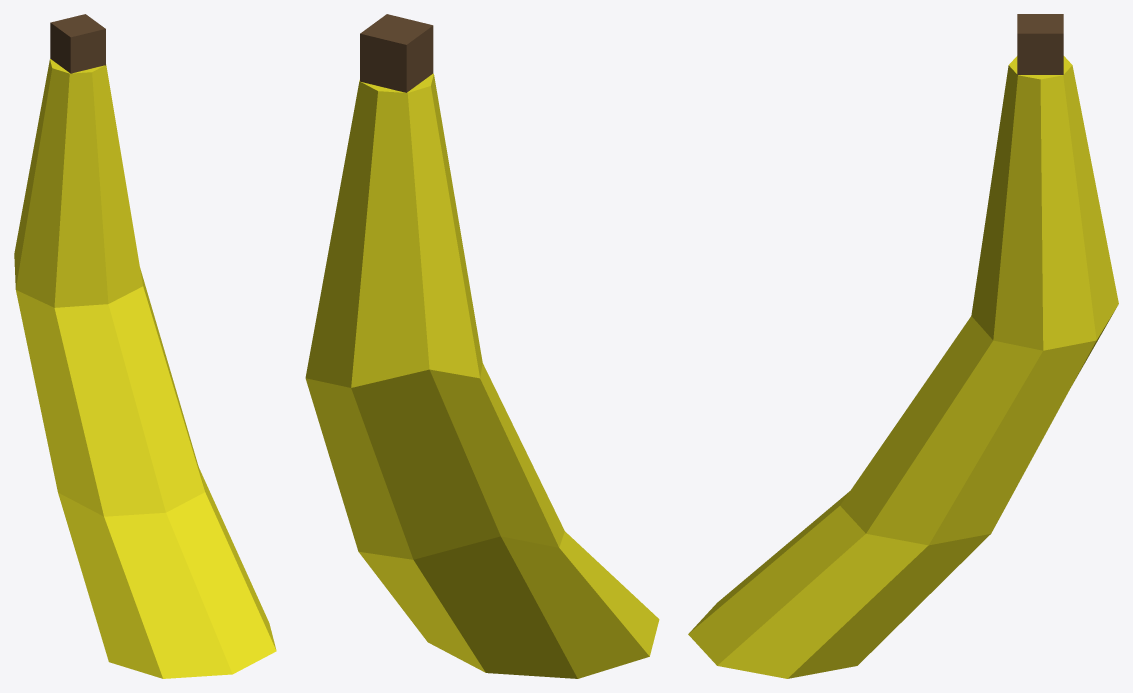
The model's file is banana.fbx.
3 renders of one model, left to right at view 1: azimuth 30°, elevation 25°; view 2: azimuth 150°, elevation 25°; view 3: azimuth 270°, elevation 25°, orthographic. The views are drawn at different scales.
Visible parts, largest first — view 1: Cylinder, Cube; view 2: Cylinder, Cube; view 3: Cylinder, Cube.
Part boxes in pixels (<box>): Cylinder: <box>14,59,276,678</box>; Cube: <box>50,14,105,73</box>; Cylinder: <box>305,73,659,678</box>; Cube: <box>360,14,433,92</box>; Cylinder: <box>688,56,1118,678</box>; Cube: <box>1017,14,1063,74</box>.
Size of the model in its own units: 108 by 345 by 221.
